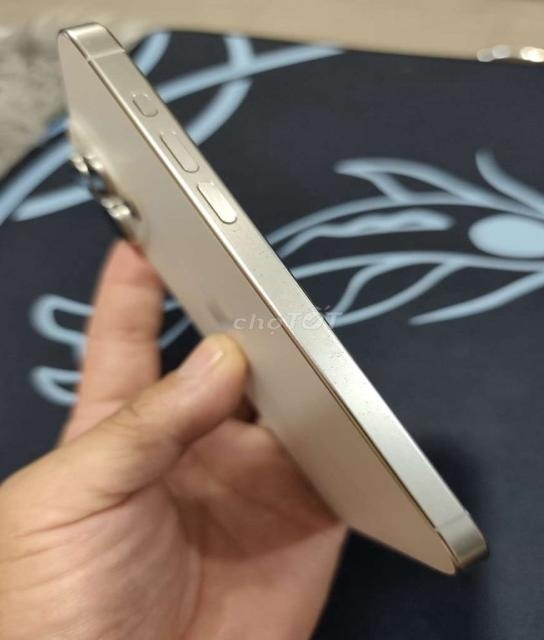scratch: (199, 223, 403, 433)
